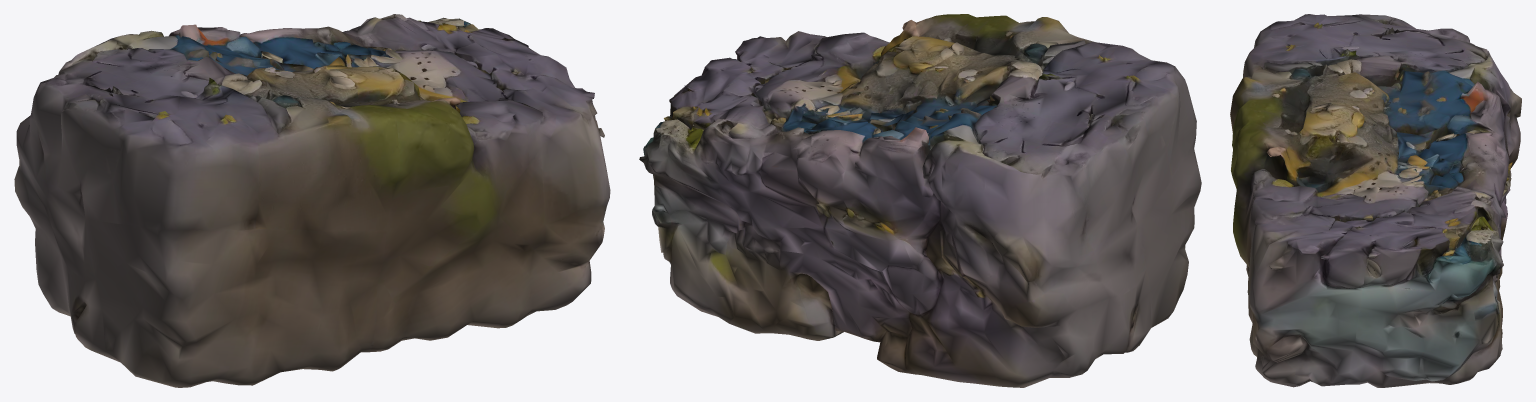
File: rock_c.glb
3 views of the same model, side by side, from view 1: azimuth 30°, elevation 25°; view 2: azimuth 150°, elevation 25°; view 3: azimuth 270°, elevation 25° (orthographic). The views are drawn at different scales.
Parts seen in each view (by area): view 1: tripo_node_667d1293; view 2: tripo_node_667d1293; view 3: tripo_node_667d1293.
Part boxes in pixels (x1,y1,x2,y2): tripo_node_667d1293: (14,14,610,387); tripo_node_667d1293: (639,14,1201,387); tripo_node_667d1293: (1230,14,1521,387).
Size of the model in its own units: 0.9784 by 0.5342 by 0.645.
Materials: 1 (1 with a texture image).
